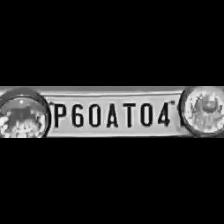0: (85, 100, 103, 128), (136, 100, 154, 128)
4: (155, 98, 173, 128)
6: (68, 101, 84, 128)
A: (104, 100, 120, 130)
P: (50, 101, 66, 129)
T: (118, 100, 136, 128)
